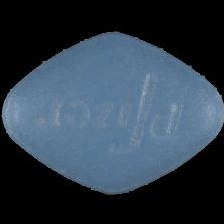0069-4210: (0, 0, 224, 224)
